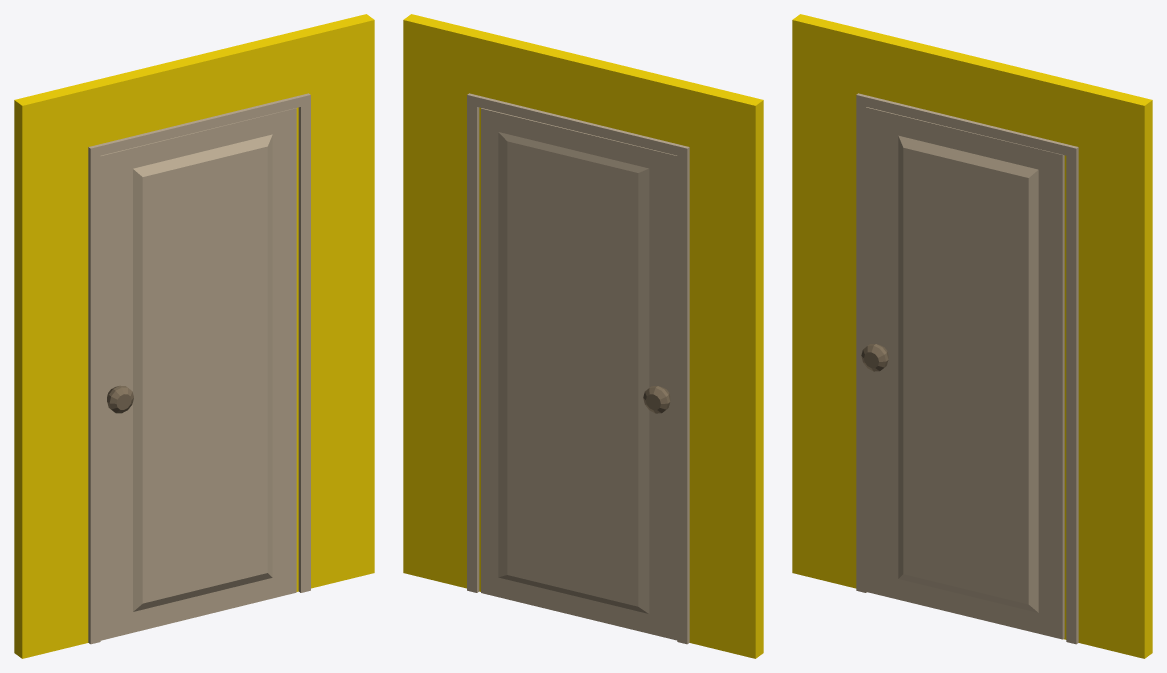
The model's file is Door fixed.fbx.
3 renders of one model, left to right at view 1: azimuth 30°, elevation 25°; view 2: azimuth 150°, elevation 25°; view 3: azimuth 330°, elevation 25°, orthographic.
Parts seen in each view (by area): view 1: Door_02_A, Wall; view 2: Door_02_A, Wall; view 3: Door_02_A, Wall.
Part boxes in pixels (x1,y1,x2,y2): Door_02_A: (88,93,310,644); Wall: (14,14,374,658); Door_02_A: (467,93,689,644); Wall: (403,14,763,658); Door_02_A: (856,93,1078,644); Wall: (792,14,1152,658).
Bounding box in the file's own units: 100 × 150 × 15.24.
